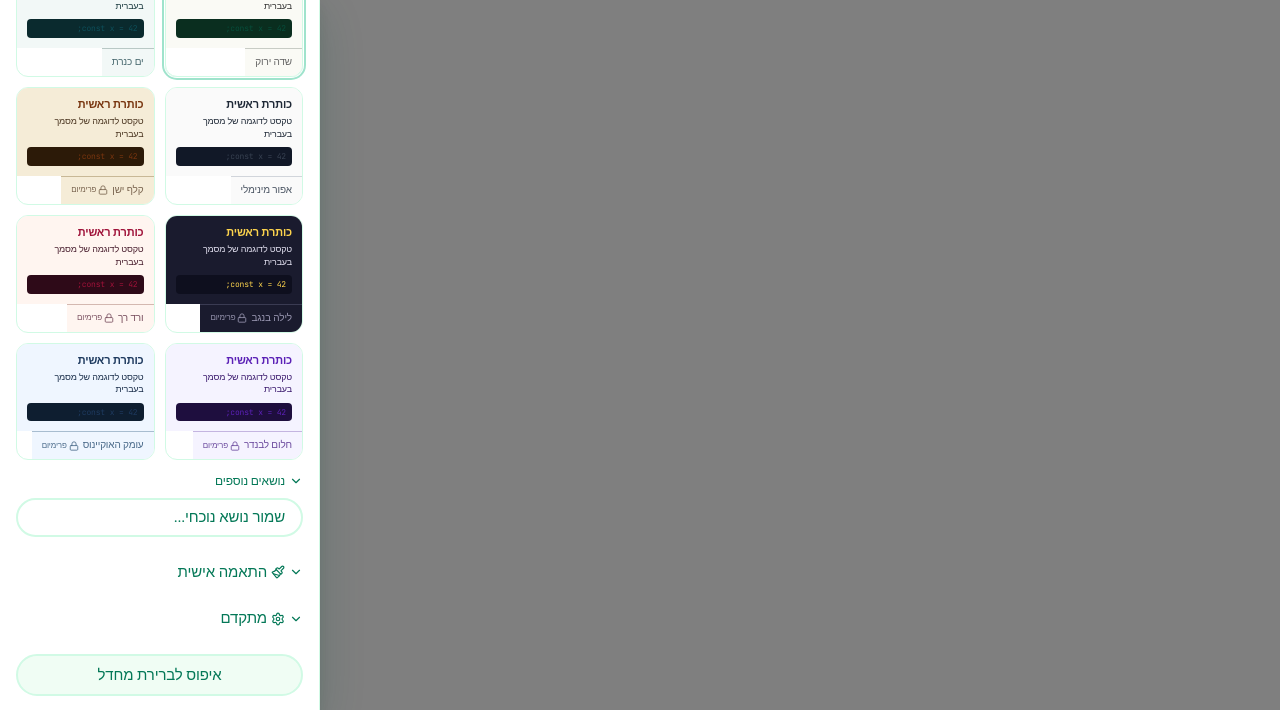
Test: ColorPanel — custom presets › clicking save preset button shows name input with save and cancel buttons
(page scrolled)
Click the button "שמור נושא נוכחי...": click(229, 517) [16,498,303,537]
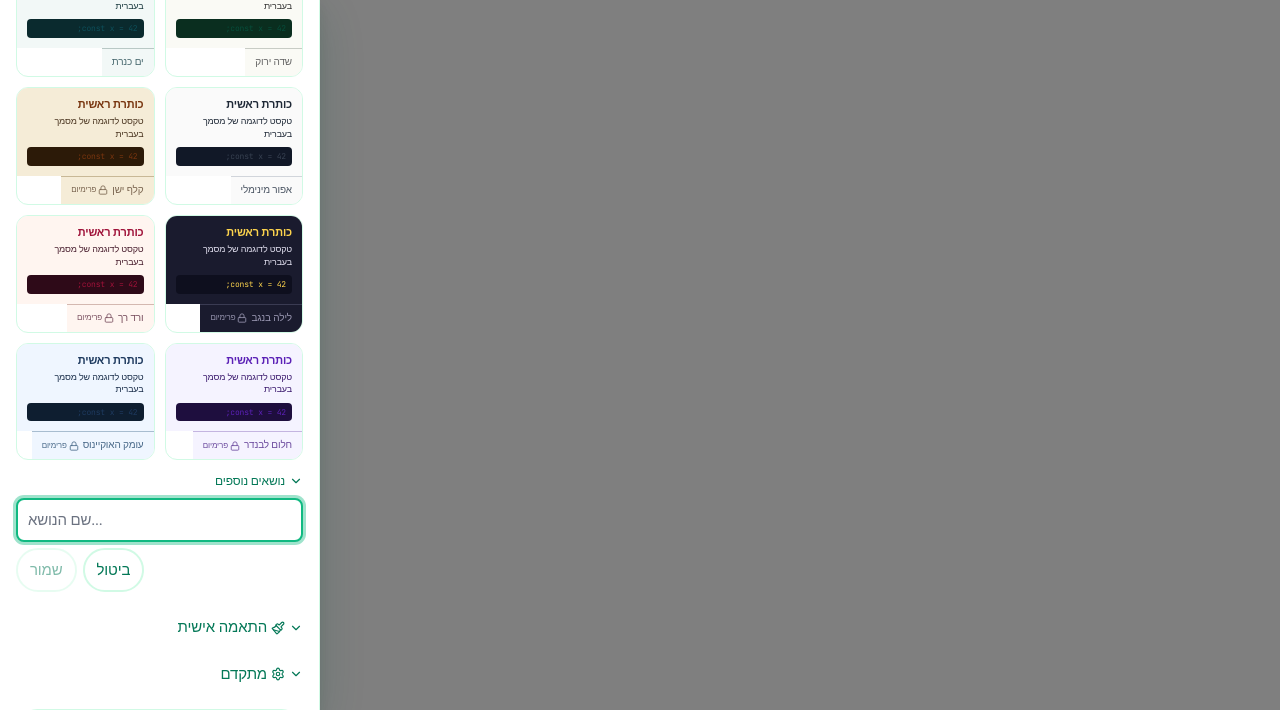
Check: the button "שמור" is shown, box [16,548,76,592]
Check: the field with placeholder "שם הנושא..." is shown, box [16,498,303,542]
Check: the button "ביטול" is shown, box [82,548,144,592]
